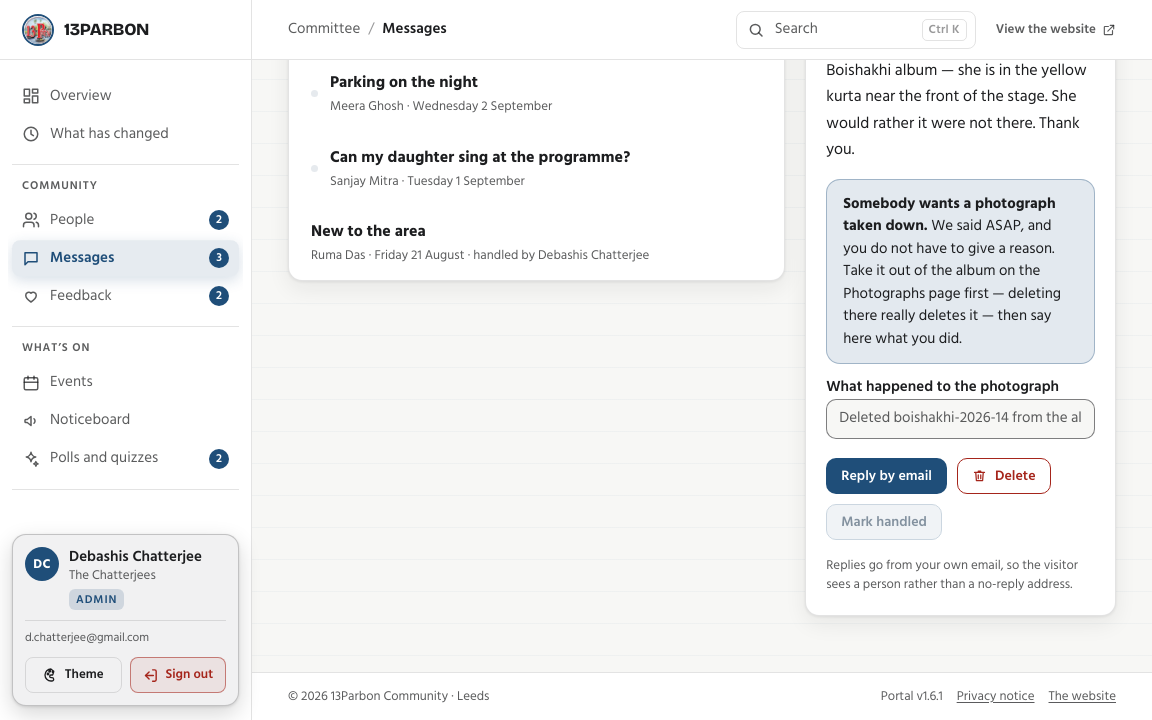
it: what the committee sees › will not let it be marked done until somebody says what was done
This screenshot has width=1152, height=720.
(page scrolled)
Expected: the button "Mark handled" is disabled, [826,504,942,540]
Type "Deleted boishakhi-2026-14" into the field labelled "What happened to the photograph". click: (961, 419)
box: [826,399,1095,439]
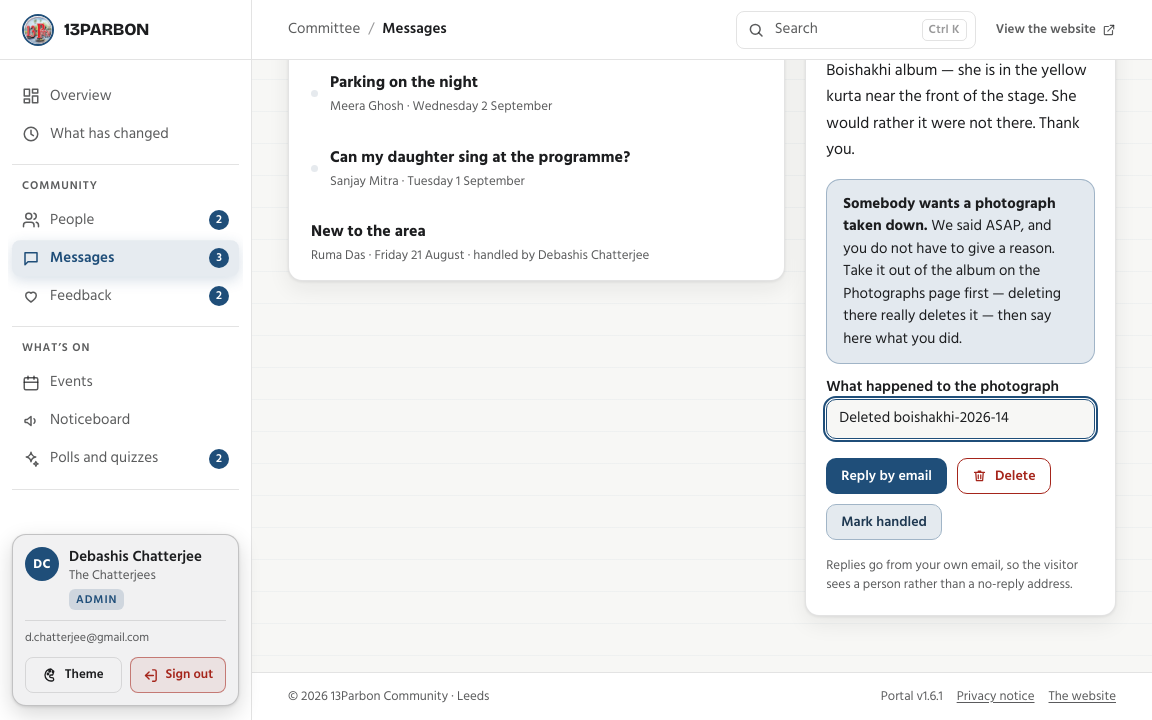
Expected: the button "Mark handled" is enabled, [826,504,942,540]
